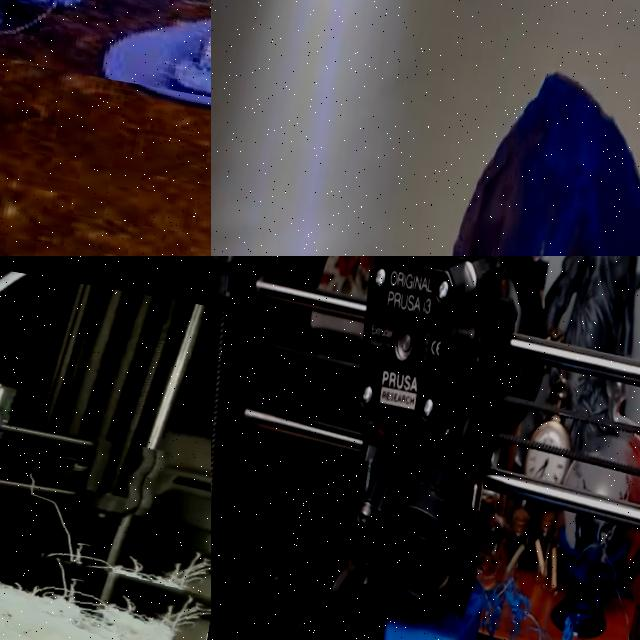spaghetti: (0, 443, 211, 640)
